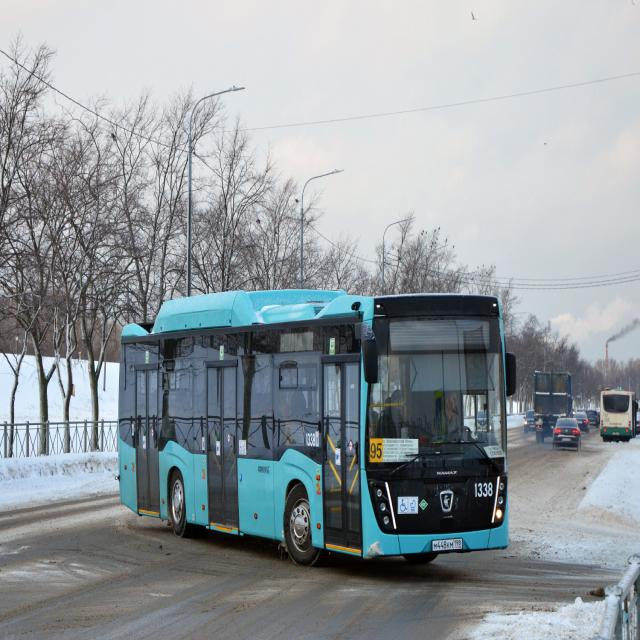number-of-bus: (370, 440, 383, 462)
